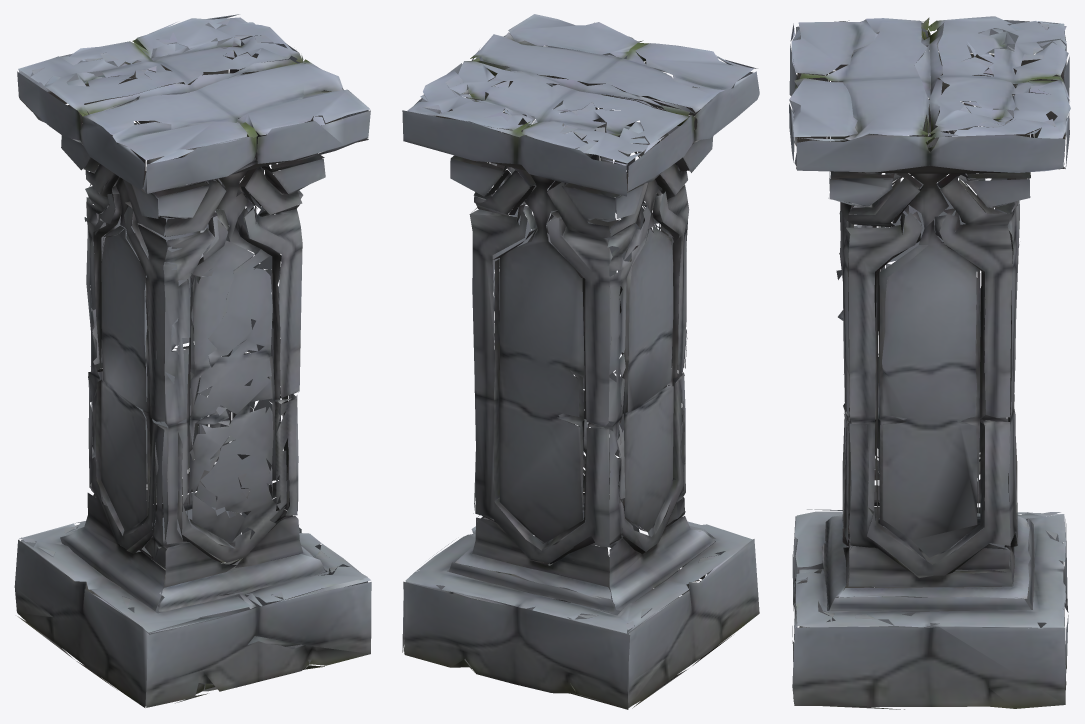
The model's file is lan_split_pillar_relief.glb.
3 views of the same model, side by side, from view 1: azimuth 30°, elevation 25°; view 2: azimuth 150°, elevation 25°; view 3: azimuth 270°, elevation 25° (orthographic). The views are drawn at different scales.
Visible parts, largest first — view 1: MetricPlacement; view 2: MetricPlacement; view 3: MetricPlacement.
Part boxes in pixels (left/top/right/bottom): MetricPlacement: left=14, top=14, right=371, bottom=707; MetricPlacement: left=402, top=14, right=759, bottom=709; MetricPlacement: left=789, top=16, right=1070, bottom=709.
Size of the model in its own units: 1.14 by 2.6 by 1.14.
1 material, 1 textured.
